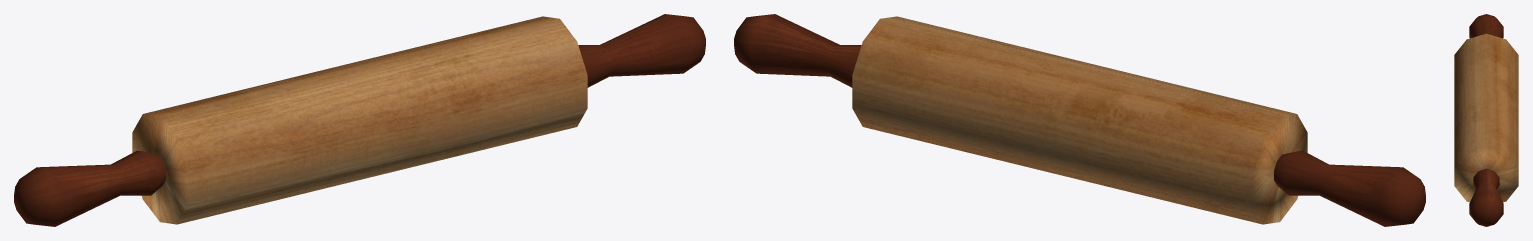
File: RollingPin_Dark.fbx
3 views of the same model, side by side, from view 1: azimuth 30°, elevation 25°; view 2: azimuth 150°, elevation 25°; view 3: azimuth 270°, elevation 25° (orthographic). The views are drawn at different scales.
Parts seen in each view (by area): view 1: RollingPin_Dark; view 2: RollingPin_Dark; view 3: RollingPin_Dark.
Part boxes in pixels (box(x1,y1,x2,y2)): RollingPin_Dark: box(14, 14, 705, 226); RollingPin_Dark: box(734, 14, 1425, 226); RollingPin_Dark: box(1454, 14, 1518, 226).
Bounding box in the file's own units: 165 × 24.52 × 23.32.
